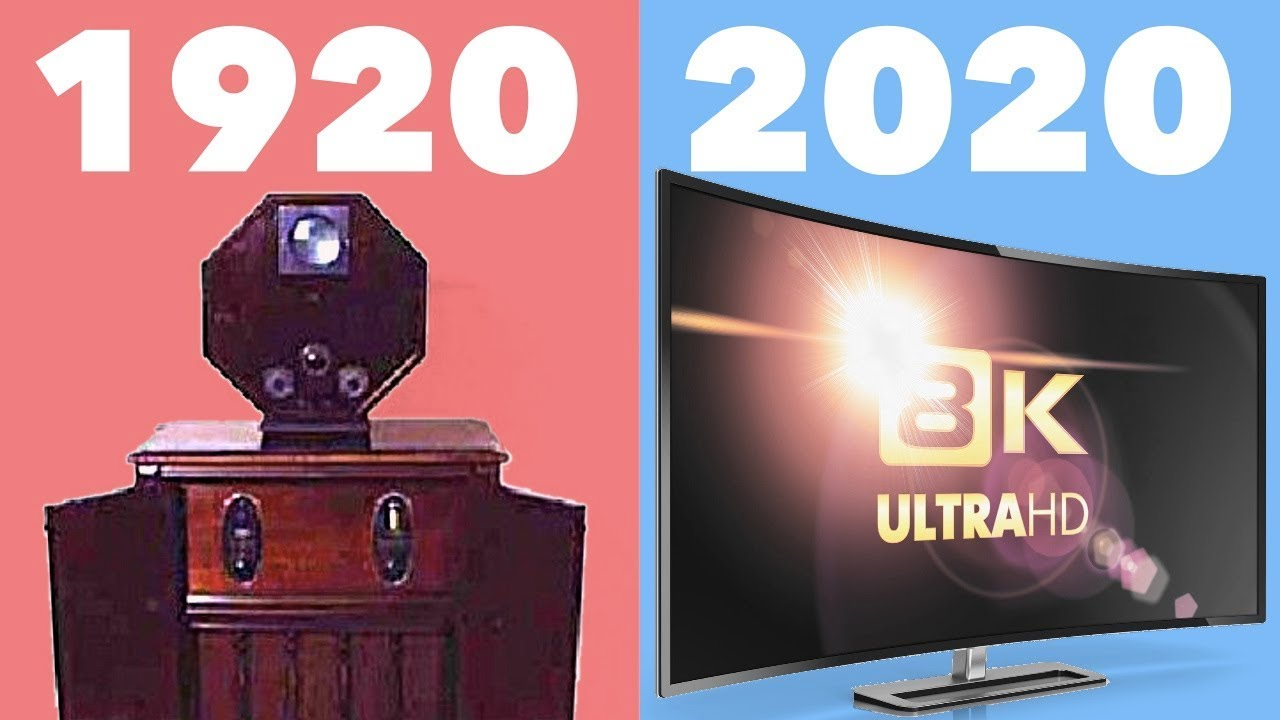tv: (639, 159, 1280, 678)
